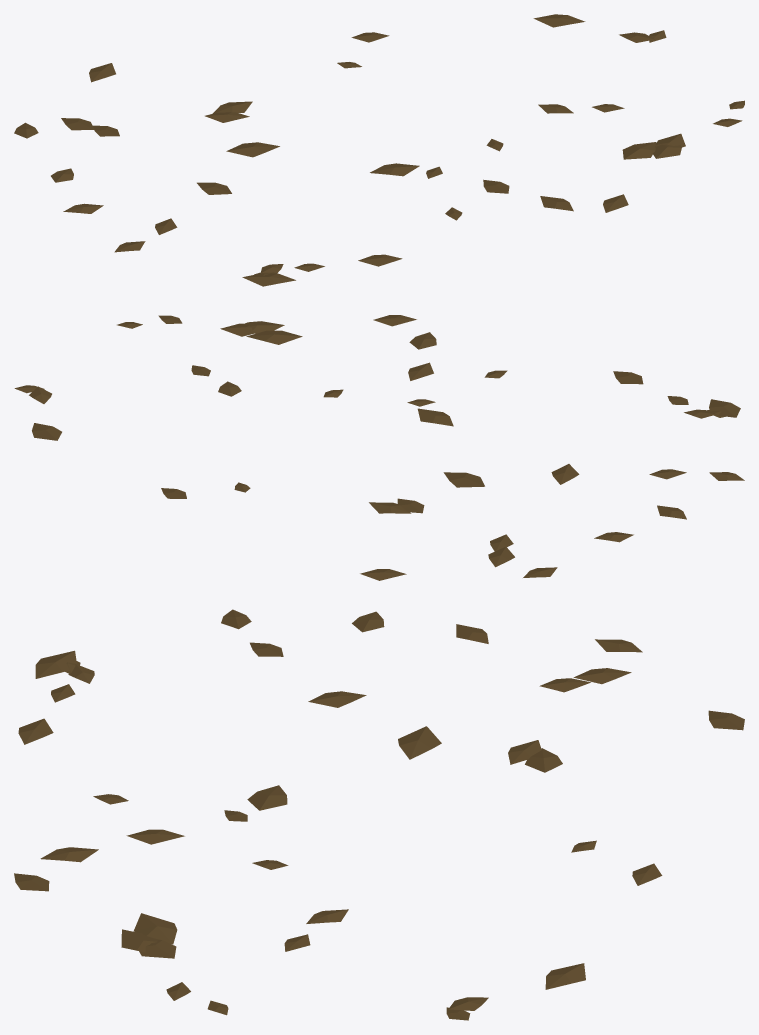
File: fallen-leaves.glb
3 renders of one model, top to bottom at view 1: azimuth 30°, elevation 25°; view 2: azimuth 150°, elevation 25°; view 3: azimuth 270°, elevation 25°, orthographic. The views are drawn at different scales.
Parts seen in each view (by area): view 1: Curled leaf.001, Curled leaf.020; view 2: Curled leaf.020, Curled leaf.001; view 3: Curled leaf.001, Curled leaf.020, Curled leaf.032, Curled leaf.009, Curled leaf.019.
Boxes of the visible parts, x1,y1,x2,y2 form: Curled leaf.001: [226, 142, 279, 157]; Curled leaf.020: [622, 142, 656, 159]; Curled leaf.020: [246, 330, 302, 344]; Curled leaf.001: [443, 472, 484, 487]; Curled leaf.001: [398, 726, 441, 759]; Curled leaf.020: [133, 913, 177, 944]; Curled leaf.032: [35, 650, 76, 678]; Curled leaf.009: [545, 963, 585, 989]; Curled leaf.019: [247, 785, 287, 810].
Size of the model in its own units: 1.79 by 0.00898 by 1.34.
